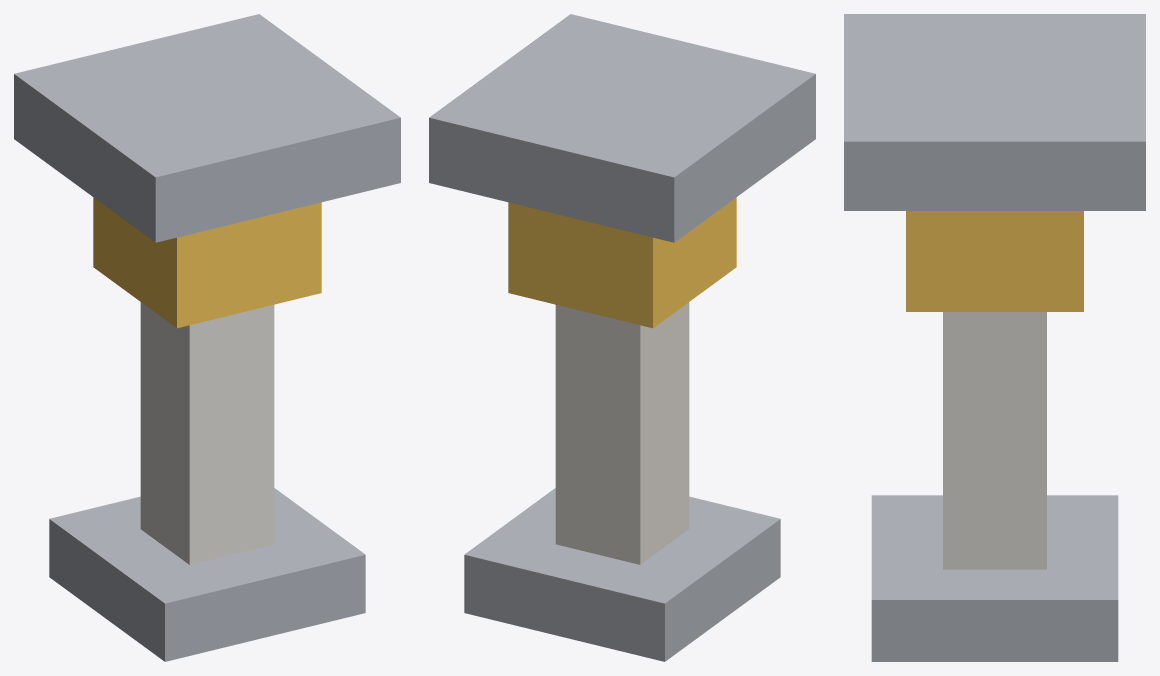
Rendered from prop-stone-lantern.c50f35d4.glb.
The picture shows the model from 3 angles, left to right: view 1: azimuth 30°, elevation 25°; view 2: azimuth 150°, elevation 25°; view 3: azimuth 270°, elevation 25°; orthographic projection. The views are drawn at different scales.
Parts seen in each view (by area): view 1: prop-stone-lantern; view 2: prop-stone-lantern; view 3: prop-stone-lantern.
Part boxes in pixels (x1,y1,x2,y2): prop-stone-lantern: [14, 14, 400, 661]; prop-stone-lantern: [429, 14, 815, 661]; prop-stone-lantern: [844, 14, 1145, 661].
Bounding box in the file's own units: 1.1 × 2.14 × 1.1.
